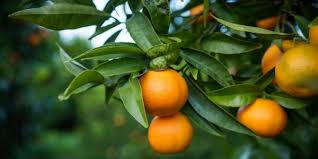orange: (131, 65, 194, 117), (269, 43, 318, 98), (233, 98, 290, 140), (145, 112, 195, 155)
